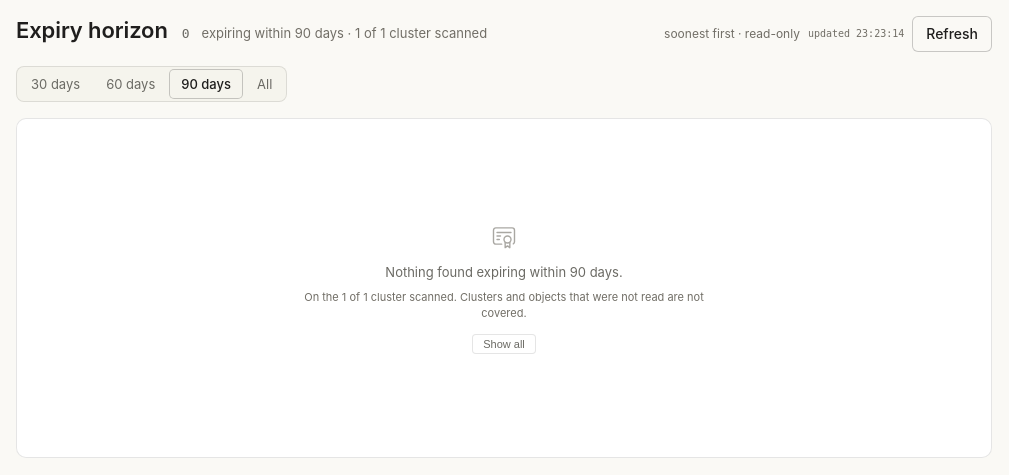
Test case: FleetExpiry › window filter narrows; an empty window is neutral and scoped, never 'nothing expires' (step 7d)
expect the text "Nothing found expiring within 90 days." is shown: met, box [385,263,623,282]
expect the text "On the 1 of 1 cluster scanned" is shown: met, box [304,290,704,320]
Click the button "All".
click(265, 84)  # box [245,69,284,99]
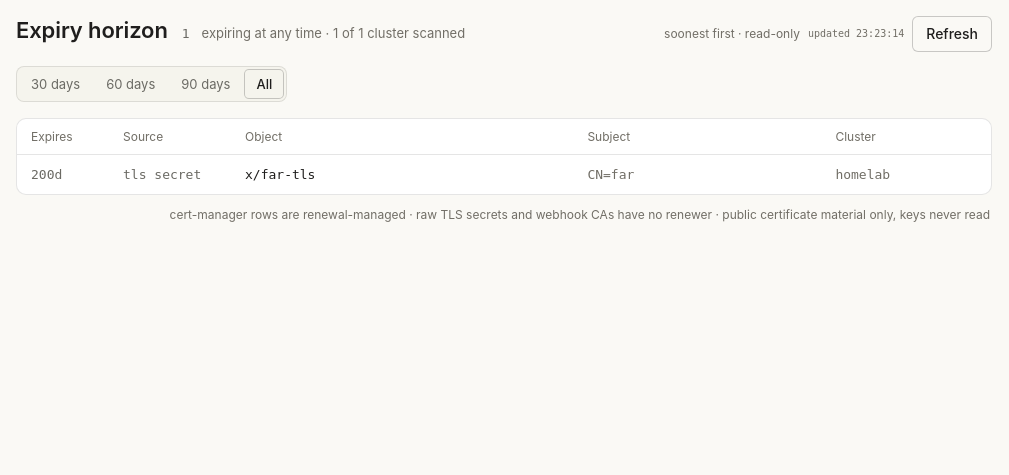
expect the text "x/far-tls" is shown: met, box [245,166,316,182]
